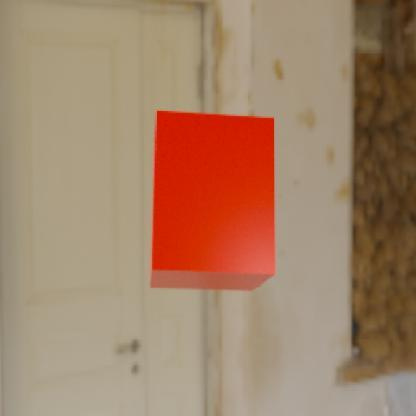red_cube: (148, 109, 276, 291)
